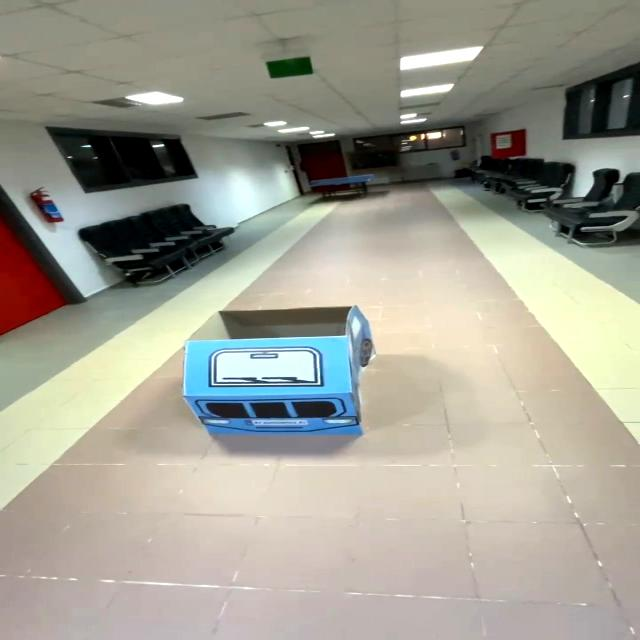blue_car: (160, 281, 395, 464)
